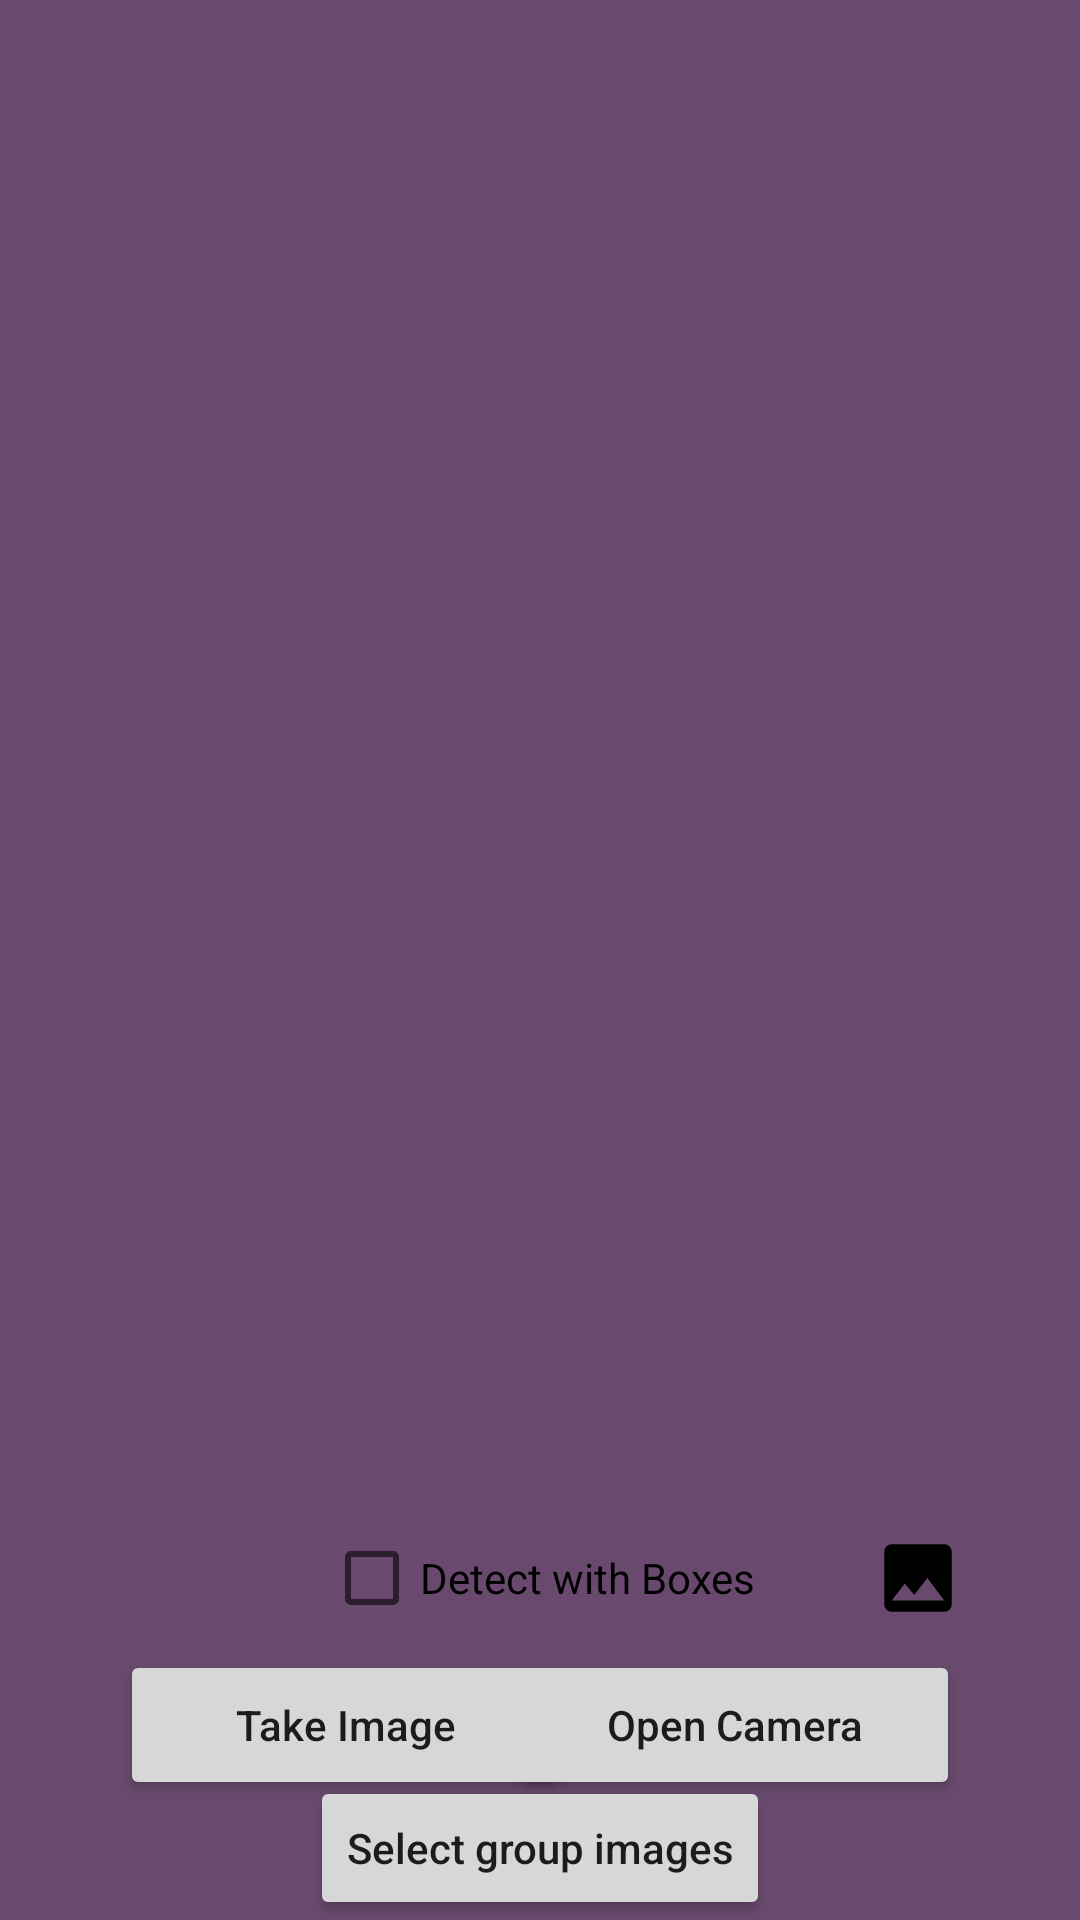

Icon bounding boxes for this 1080px×1920px phone screenshot, format BBox(x1, y1, x2, y2):
images: BBox(884, 1544, 952, 1612)
